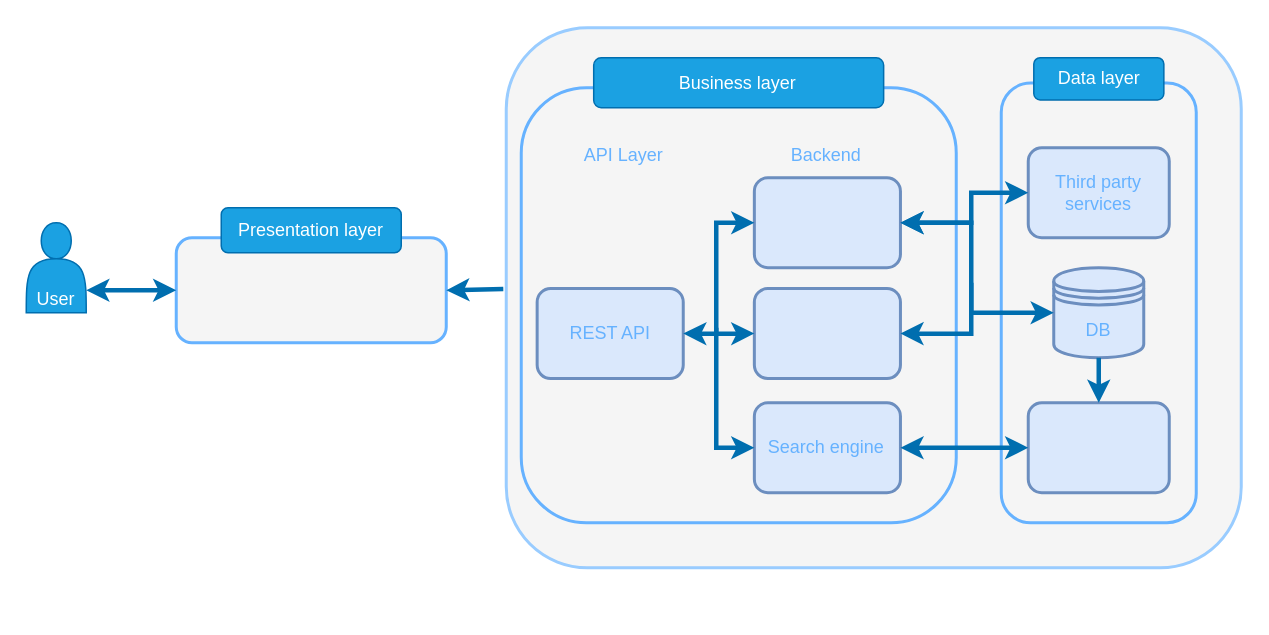
The diagram is 1269 pixels wide and 635 high, and some of its shapes have lost their labels. The box of each missing label's shape, as (x1, y1, x2, y2) in pixels:
Checkman: (752, 176, 901, 268)
Elasticsearch: (1026, 400, 1170, 494)
Testing subsystem: (752, 286, 901, 379)
Web server (Frontend): (174, 236, 447, 344)
